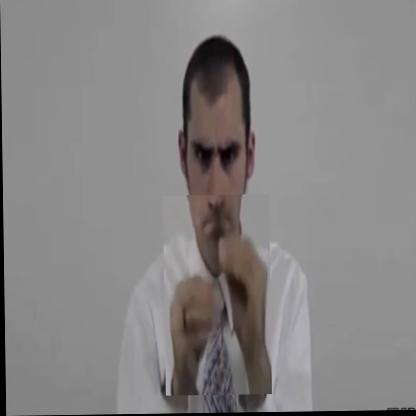Fix: (162, 195, 271, 396)
